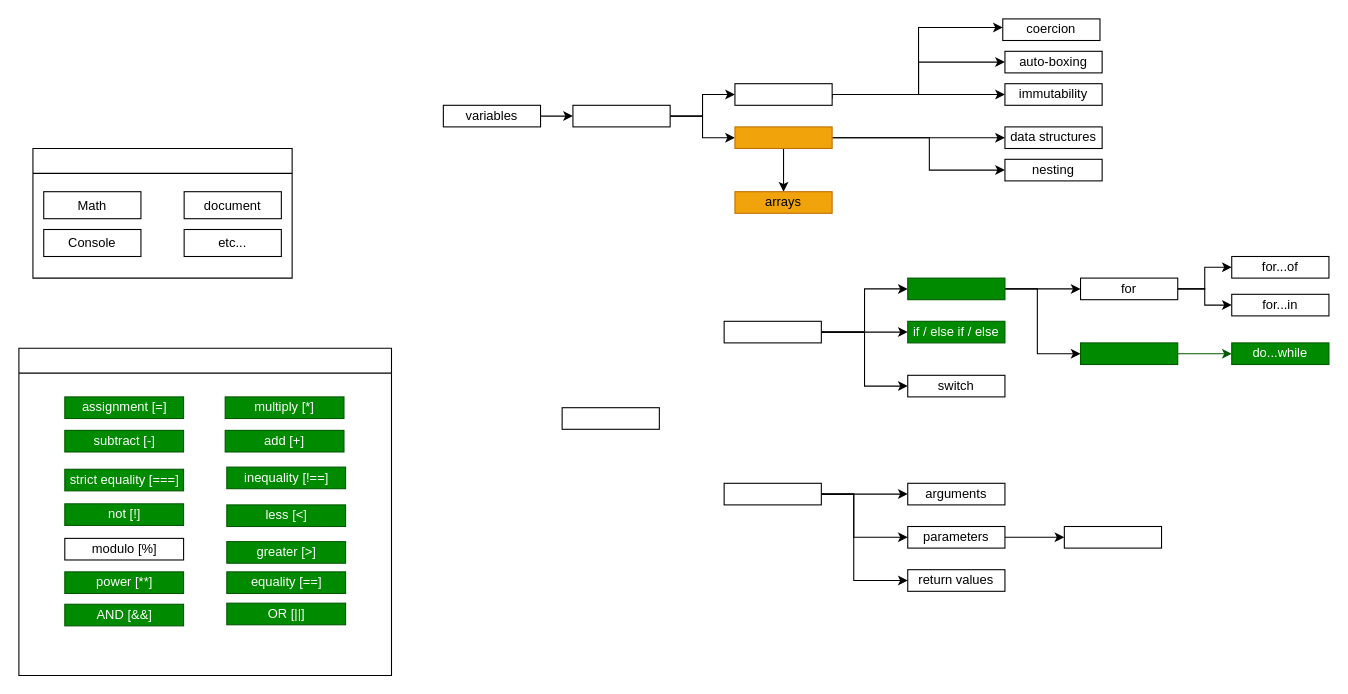
Image size: 1348x694. Some labels were removed from this diagram. Here are the shapes that lost their labels. From the top down, the box of each, then its label:
(734, 83, 832, 105): primitives
(572, 104, 670, 127): values
(734, 126, 832, 148): objects
(32, 147, 292, 278): Browser APIs
(907, 277, 1005, 300): cycles
(723, 320, 821, 343): statements
(1079, 342, 1178, 364): while
(561, 407, 659, 429): scoping
(18, 347, 392, 676): Operators
(723, 482, 821, 505): functions
(1063, 525, 1162, 548): callbacks
